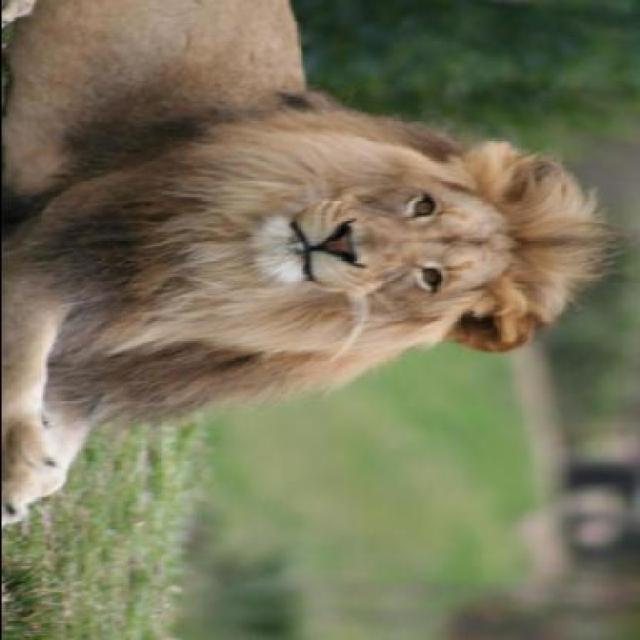Lion: (1, 8, 632, 534)
